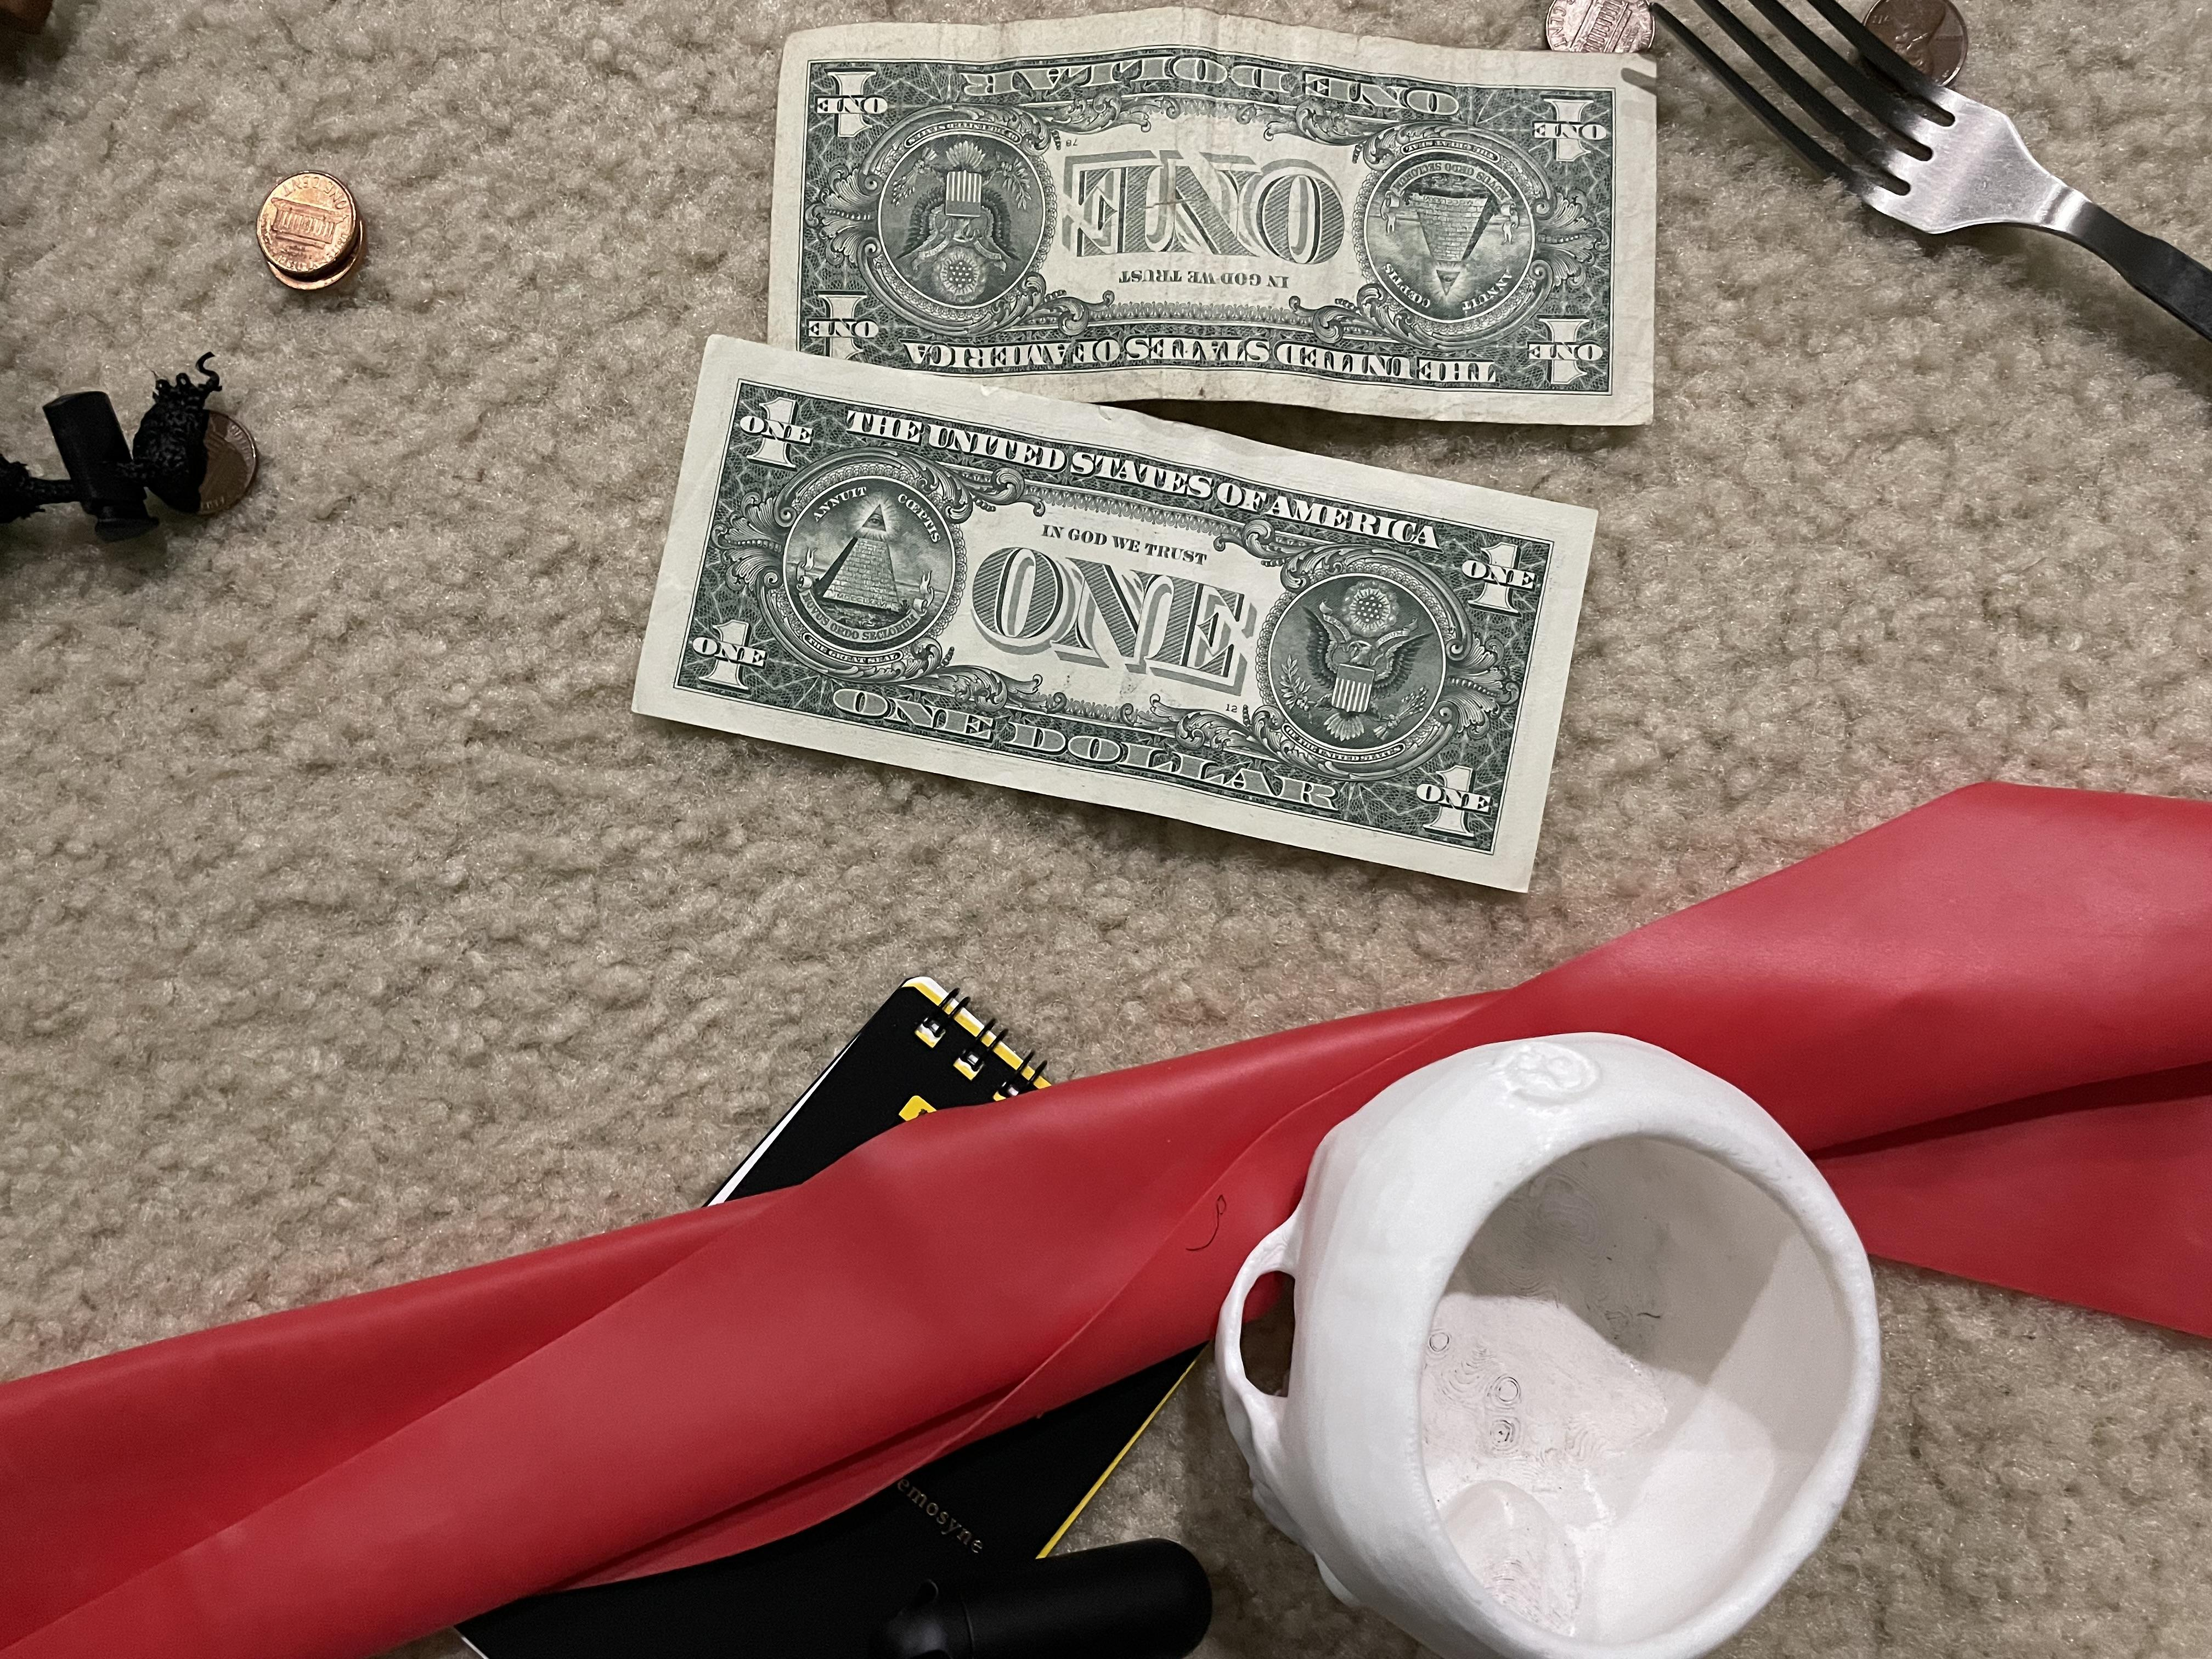OneBill: (632, 328, 1604, 927), (766, 23, 1672, 422)
Penny: (237, 167, 381, 298), (132, 403, 266, 505), (1851, 14, 1994, 87), (1521, 5, 1656, 58)
